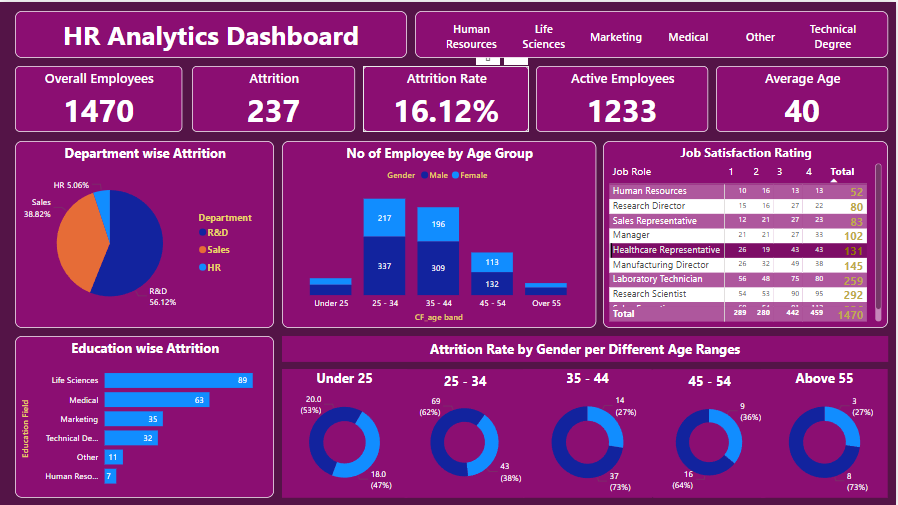

This screenshot's page, from the dashboard's own definition file:
{"tool":"powerbi","page":{"name":"Page 1","canvas":[1280,720],"ordinal":0},"visuals":[{"type":"card","title":"Overall Employees ","fields":{"Values":["Sum(HR data.Employee Count)"]},"box":[21.4,91.4,238.6,94.3],"z":0},{"type":"card","title":"Attrition","fields":{"Values":["Sum(HR data.Attrition_Count)"]},"box":[274.3,91.4,232.9,94.3],"z":1000},{"type":"card","title":"Attrition Rate","fields":{"Values":["HR data.Attrition Rate"]},"box":[518.6,91.4,237.1,94.3],"z":2000},{"type":"card","title":"Active Employees ","fields":{"Values":["HR data.Active Employee"]},"box":[765.7,91.4,245.7,94.3],"z":3000},{"type":"card","title":"Average Age","fields":{"Values":["Avg(HR data.Age)"]},"box":[1022.9,91.4,245.7,94.3],"z":4000},{"type":"textbox","box":[21.4,12.9,560,67.1],"z":5000},{"type":"slicer","fields":{"Values":["HR data.Education Field"]},"box":[592.9,12.9,675.7,67.1],"z":6000},{"type":"pieChart","title":"Department wise Attrition","fields":{"Category":["HR data.Department"],"Y":["Sum(HR data.Attrition_Count)"]},"box":[21.4,198.6,370,267.1],"z":7000},{"type":"columnChart","title":"No of Employee by Age Group","fields":{"Category":["HR data.CF_age band"],"Y":["CountNonNull(HR data.emp no)"],"Series":["HR data.Gender"]},"box":[402.9,198.6,448.6,267.1],"z":8000},{"type":"pivotTable","title":"Job Satisfaction Rating","fields":{"Rows":["HR data.Job Role"],"Columns":["HR data.Job Satisfaction"],"Values":["Sum(HR data.Employee Count)"]},"box":[861.4,198.6,407.1,267.1],"z":9000},{"type":"barChart","title":"Education wise Attrition","fields":{"Category":["HR data.Education Field"],"Y":["Sum(HR data.Attrition_Count)"]},"box":[21.4,477.1,370,231.4],"z":10000},{"type":"donutChart","title":"Under 25","fields":{"Category":["HR data.Gender"],"Y":["Sum(HR data.Attrition_Count)"],"Series":["HR data.CF_age band"]},"box":[402.9,524.3,178.6,184.3],"z":11000},{"type":"donutChart","title":"25 - 34","fields":{"Category":["HR data.Gender"],"Y":["Sum(HR data.Attrition_Count)"],"Series":["HR data.CF_age band"]},"box":[571.4,524.3,184.3,184.3],"z":12000},{"type":"donutChart","title":"35 - 44","fields":{"Category":["HR data.Gender"],"Y":["Sum(HR data.Attrition_Count)"],"Series":["HR data.CF_age band"]},"box":[747.1,524.3,184.3,184.3],"z":13000},{"type":"donutChart","title":"45 - 54","fields":{"Category":["HR data.Gender"],"Y":["Sum(HR data.Attrition_Count)"],"Series":["HR data.CF_age band"]},"box":[925.7,524.3,174.3,184.3],"z":14000},{"type":"textbox","box":[402.9,477.1,865.7,37.1],"z":15000},{"type":"donutChart","title":"Above 55","fields":{"Category":["HR data.Gender"],"Y":["Sum(HR data.Attrition_Count)"],"Series":["HR data.CF_age band"]},"box":[1087.1,524.3,181.4,184.3],"z":15001}]}

Visuals, with their boxes in screenshot pixels (x1, y1, x2, y2), scaled from the page's 1280x720 canvas onto the 898x505 screenshot:
"Overall Employees " card: 15:64:182:130
"Attrition" card: 192:64:356:130
"Attrition Rate" card: 364:64:530:130
"Active Employees " card: 537:64:710:130
"Average Age" card: 718:64:890:130
textbox: 15:9:408:56
slicer - HR data.Education Field: 416:9:890:56
"Department wise Attrition" pieChart: 15:139:275:327
"No of Employee by Age Group" columnChart: 283:139:597:327
"Job Satisfaction Rating" pivotTable: 604:139:890:327
"Education wise Attrition" barChart: 15:335:275:497
"Under 25" donutChart: 283:368:408:497
"25 - 34" donutChart: 401:368:530:497
"35 - 44" donutChart: 524:368:653:497
"45 - 54" donutChart: 649:368:772:497
textbox: 283:335:890:361
"Above 55" donutChart: 763:368:890:497
